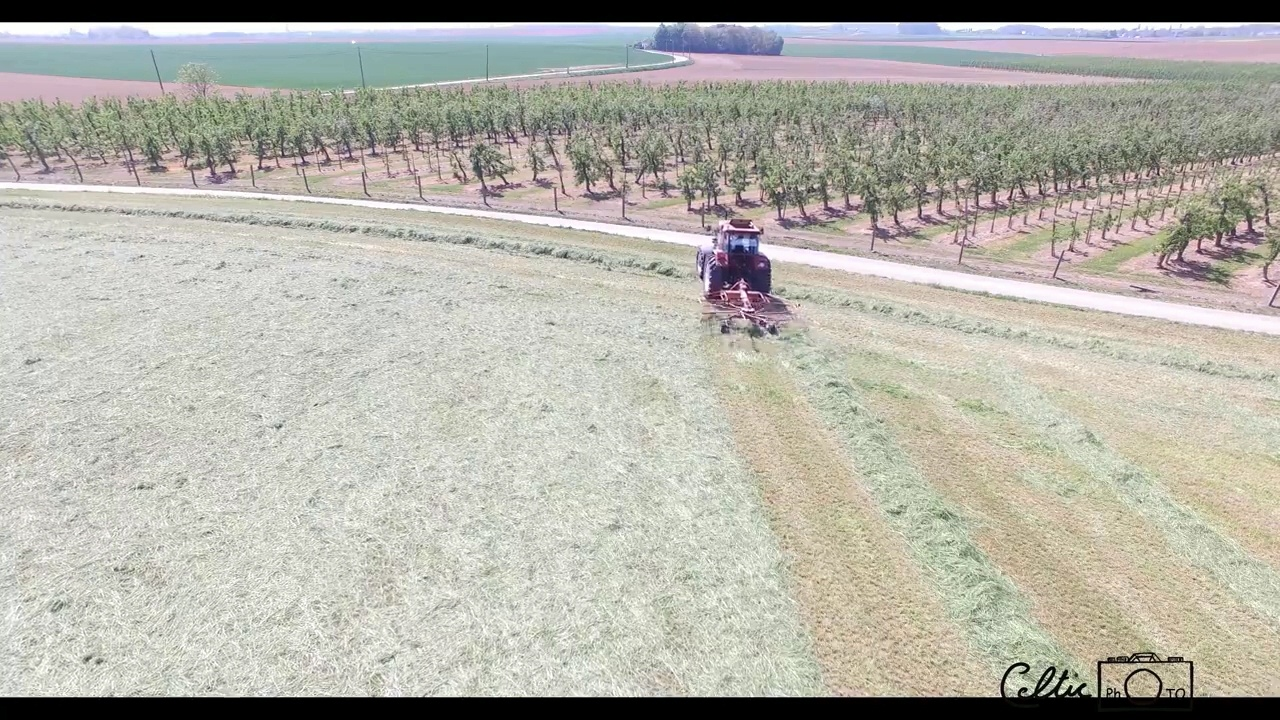traktor: (692, 217, 775, 304)
